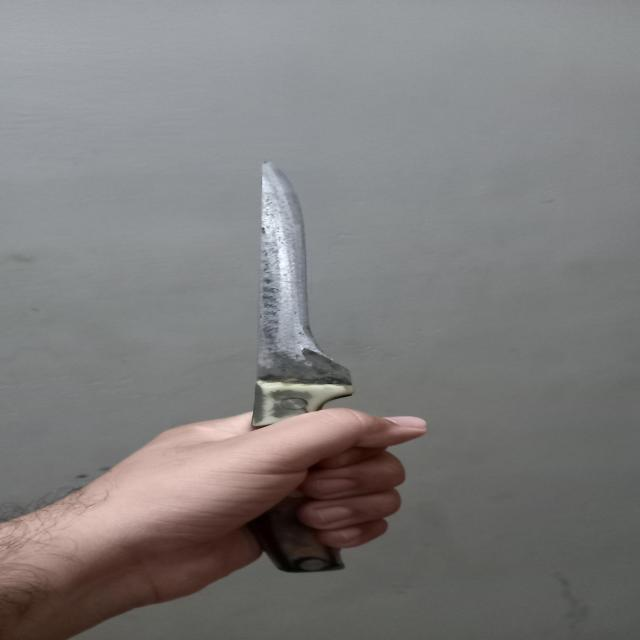Knife: (229, 134, 396, 582)
